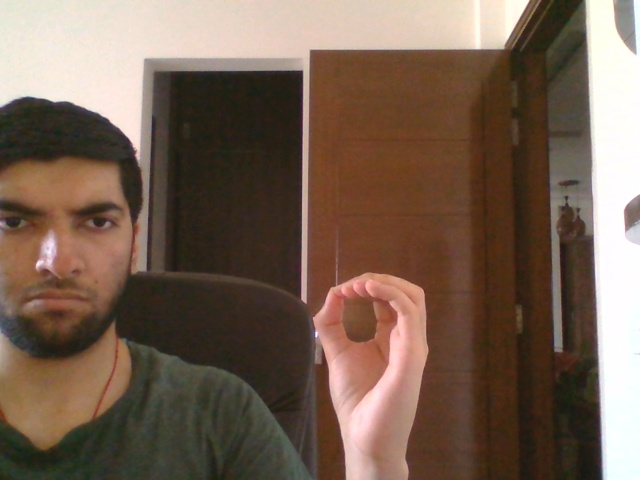LetterO: (312, 270, 431, 460)
